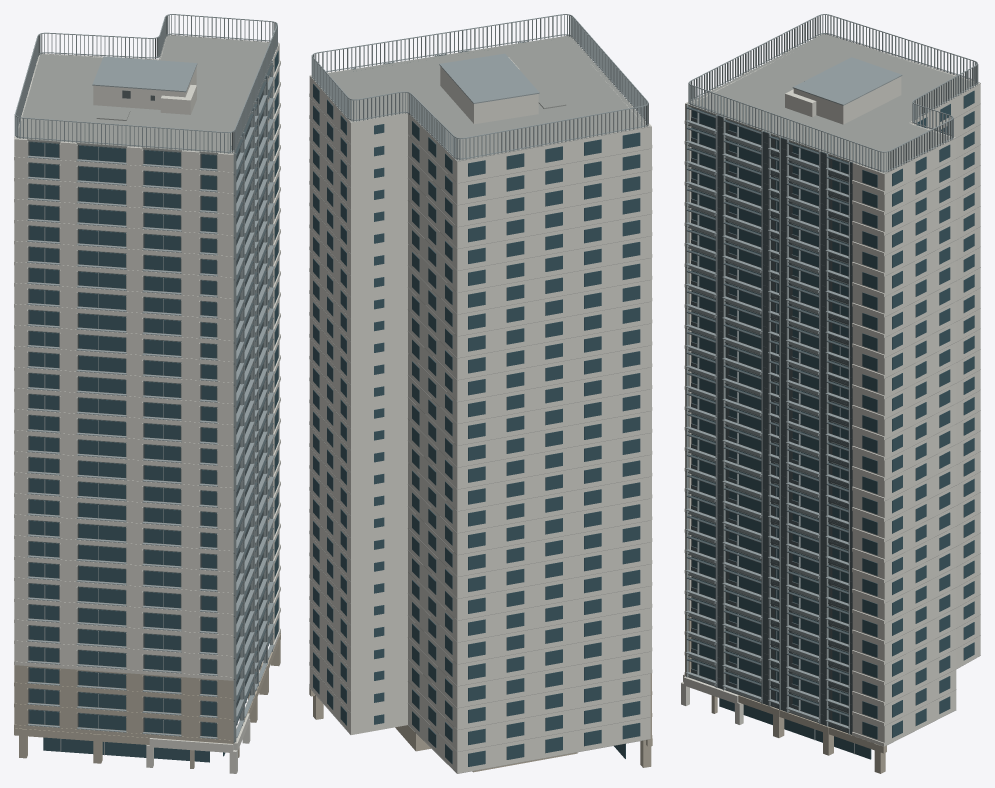
Rendered from bespoke-maple-xi-207.glb.
3 renders of one model, left to right at view 1: azimuth 30°, elevation 25°; view 2: azimuth 150°, elevation 25°; view 3: azimuth 270°, elevation 25°, orthographic. The views are drawn at different scales.
Parts seen in each view (by area): view 1: Maple207_e5_four_unequal_glazed_groups, Maple207_e5_primary_white_vertical_piers001, Maple207_e5_primary_white_horizontal_beams001, Maple207_roof_deck, Maple207_e5_four_unequal_window_reveals, Maple207_e4_projected_bay_jambs, Maple207_e5_recess_sill, Maple207_e4_projected_sill_lip, Maple207_e5_recessed_pale_wall_back001, Maple207_e4_projected_head_lip, Maple207_open_roof_fins, Maple207_e5_reveal_side_returns001 (+19 smaller); view 2: Maple207_rear_0_provisional_white, Maple207_rear_0_unverified_windows, Maple207_rear_2_provisional_white, Maple207_rear_1_provisional_white, Maple207_rear_3_provisional_white, Maple207_roof_deck, Maple207_rear_1_unverified_windows, Maple207_rear_panel_seams, Maple207_open_roof_fins, Maple207_rear_3_unverified_windows, Maple207_plant_cap_high, Maple207_notch_core_small_opening (+4 smaller); view 3: Maple207_rear_3_provisional_white, Maple207_e4_recessed_window_glass, Maple207_e4_fullheight_opaque_separator, Maple207_roof_deck, Maple207_e4_projected_bay_jambs, Maple207_e4_projected_sill_lip, Maple207_rear_3_unverified_windows, Maple207_e4_NE_pale_band, Maple207_e4_projected_head_lip, Maple207_rear_1_provisional_white, Maple207_open_roof_fins, Maple207_e4_window_recess_back (+23 smaller).
Boxes of the visible parts, x1,y1,x2,y2 form: Maple207_e5_four_unequal_glazed_groups: [29, 142, 216, 736]; Maple207_e5_primary_white_vertical_piers001: [14, 138, 233, 677]; Maple207_e5_primary_white_horizontal_beams001: [14, 156, 233, 680]; Maple207_roof_deck: [15, 35, 278, 154]; Maple207_e5_four_unequal_window_reveals: [28, 141, 217, 736]; Maple207_e4_projected_bay_jambs: [233, 62, 272, 742]; Maple207_e5_recess_sill: [27, 156, 217, 739]; Maple207_e4_projected_sill_lip: [233, 76, 274, 737]; Maple207_e5_recessed_pale_wall_back001: [27, 152, 233, 673]; Maple207_e4_projected_head_lip: [235, 65, 273, 723]; Maple207_open_roof_fins: [14, 15, 277, 153]; Maple207_e5_reveal_side_returns001: [27, 141, 217, 675]; Maple207_rear_0_provisional_white: [457, 126, 650, 773]; Maple207_rear_0_unverified_windows: [468, 132, 640, 766]; Maple207_rear_2_provisional_white: [350, 113, 407, 734]; Maple207_rear_1_provisional_white: [408, 114, 457, 773]; Maple207_rear_3_provisional_white: [310, 76, 351, 734]; Maple207_roof_deck: [316, 35, 649, 161]; Maple207_rear_1_unverified_windows: [412, 121, 452, 764]; Maple207_rear_panel_seams: [309, 76, 650, 773]; Maple207_open_roof_fins: [311, 15, 648, 160]; Maple207_rear_3_unverified_windows: [313, 84, 346, 725]; Maple207_plant_cap_high: [439, 53, 539, 103]; Maple207_notch_core_small_opening: [374, 124, 384, 724]; Maple207_rear_3_provisional_white: [885, 138, 956, 745]; Maple207_e4_recessed_window_glass: [692, 108, 848, 725]; Maple207_e4_fullheight_opaque_separator: [717, 115, 852, 734]; Maple207_roof_deck: [686, 34, 974, 173]; Maple207_e4_projected_bay_jambs: [686, 104, 850, 734]; Maple207_e4_projected_sill_lip: [685, 120, 849, 728]; Maple207_rear_3_unverified_windows: [892, 144, 950, 737]; Maple207_e4_NE_pale_band: [852, 162, 885, 745]; Maple207_e4_projected_head_lip: [686, 107, 848, 717]; Maple207_rear_1_provisional_white: [909, 83, 980, 668]; Maple207_open_roof_fins: [688, 15, 978, 172]; Maple207_e4_window_recess_back: [691, 110, 848, 725].
Bounding box in the file's own units: 45.33 × 92.69 × 40.56.
